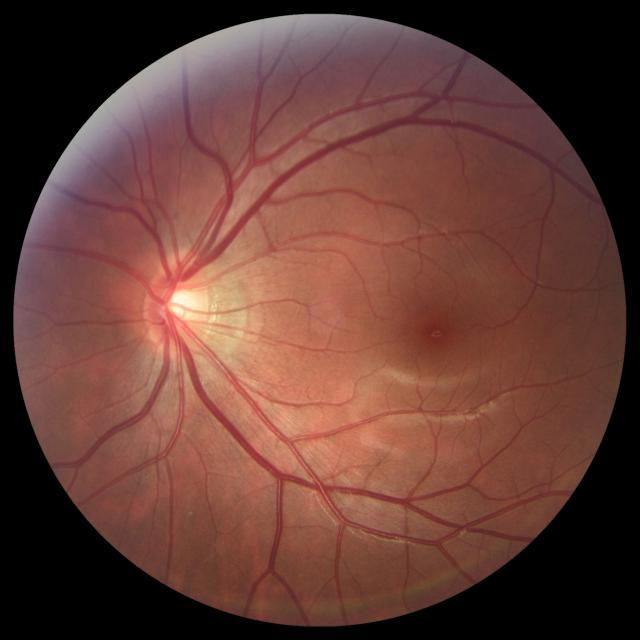OC: (158, 281, 196, 323)
OD: (146, 252, 212, 352)
